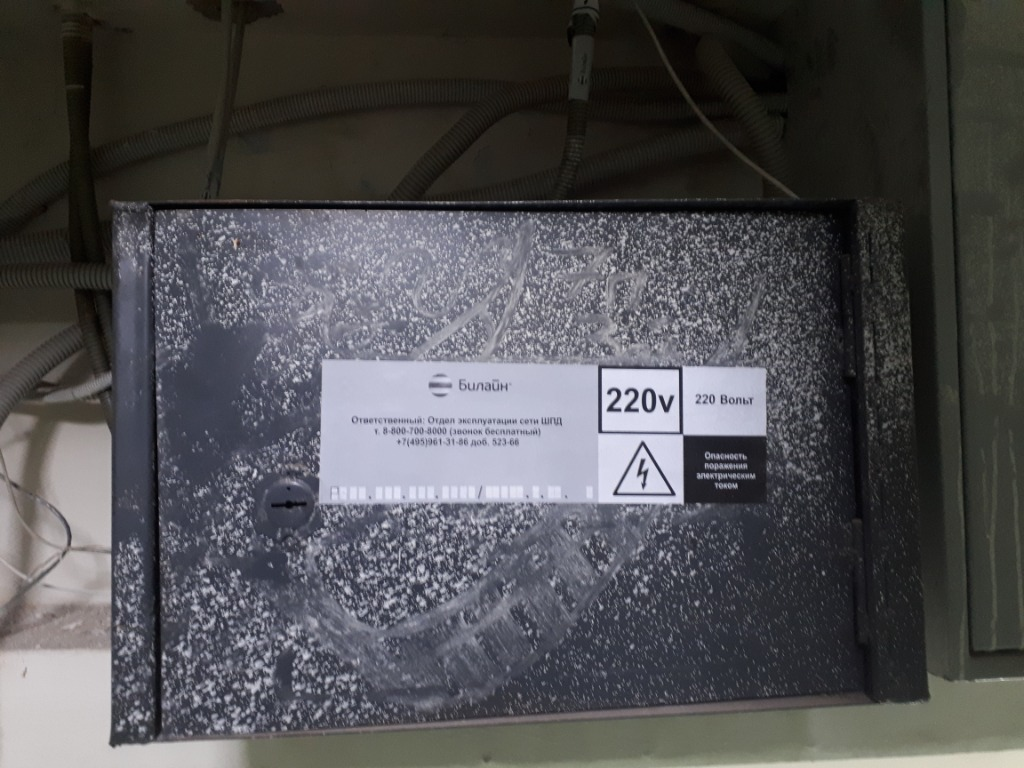e2-6u: (102, 189, 937, 752)
